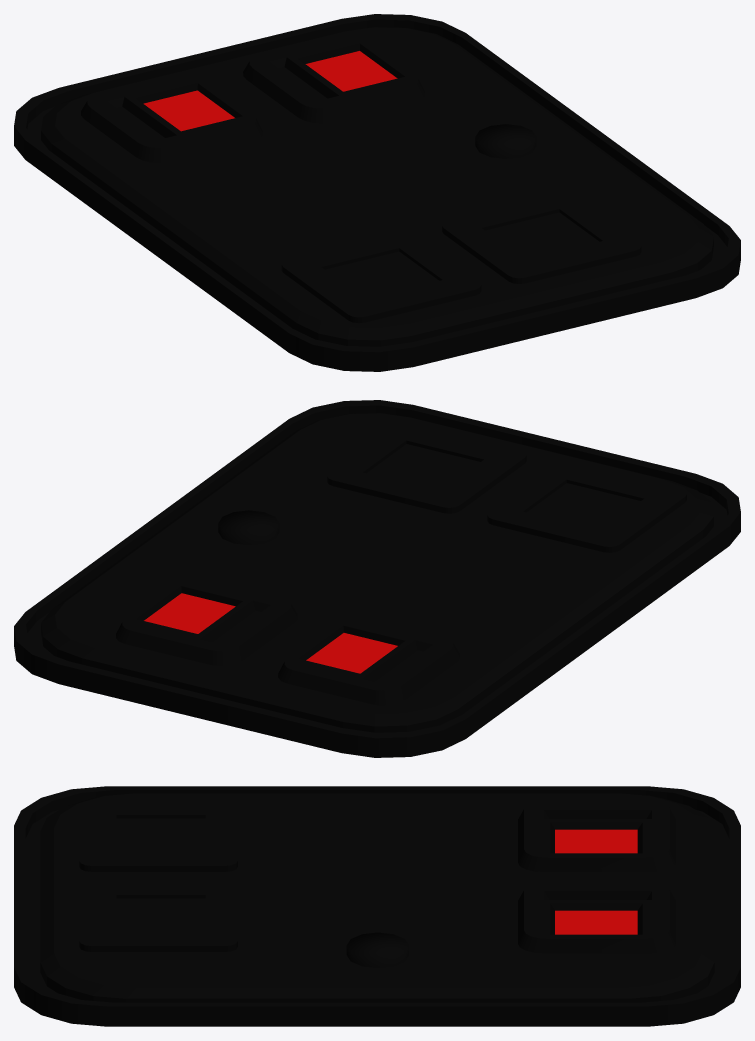
The model's file is SM_CoinSlot_Double.fbx.
3 views of the same model, one above another, from view 1: azimuth 30°, elevation 25°; view 2: azimuth 150°, elevation 25°; view 3: azimuth 270°, elevation 25° (orthographic). The views are drawn at different scales.
Visible parts, largest first — view 1: SM_CoinPanel; view 2: SM_CoinPanel; view 3: SM_CoinPanel.
Boxes of the visible parts, x1,y1,x2,y2 form: SM_CoinPanel: (14,14,740,371); SM_CoinPanel: (14,400,740,757); SM_CoinPanel: (14,786,740,1026).
Size of the model in its own units: 220 by 17.71 by 307.
